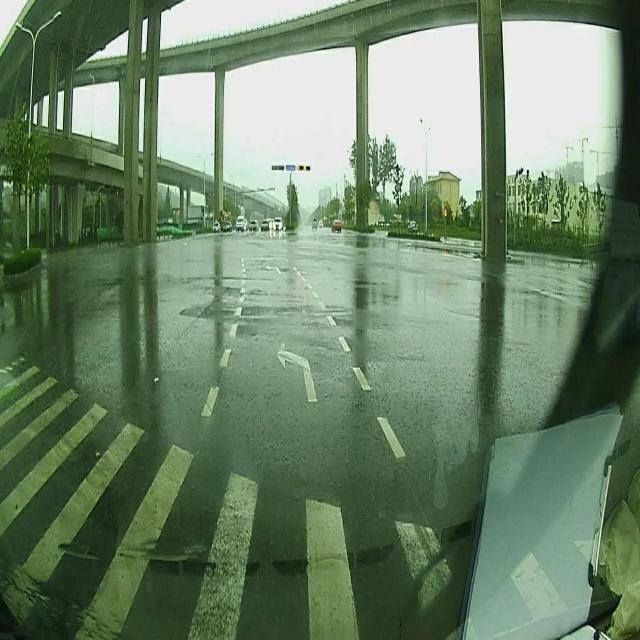car: (236, 215, 246, 233), (274, 218, 284, 232), (262, 218, 271, 232), (212, 219, 220, 232), (332, 220, 340, 230)
